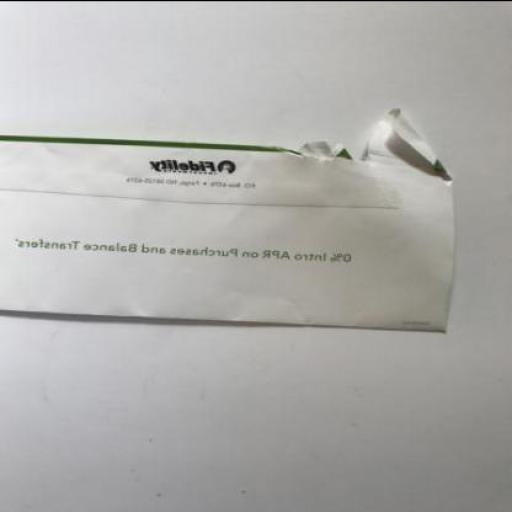paper: (0, 105, 454, 331)
